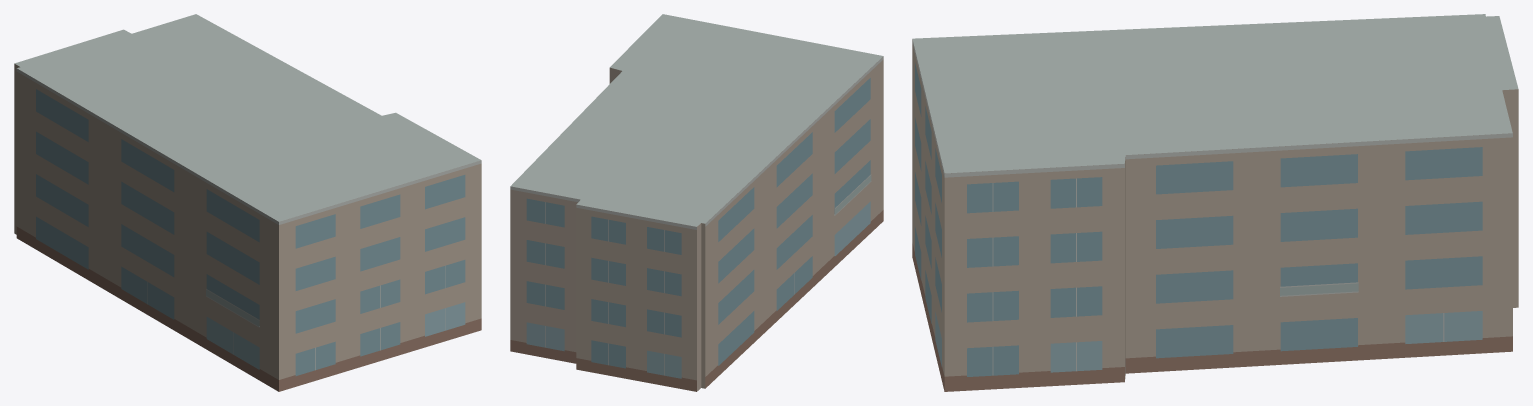
Rendered from survey-upis-32638698.glb.
3 renders of one model, left to right at view 1: azimuth 30°, elevation 25°; view 2: azimuth 150°, elevation 25°; view 3: azimuth 270°, elevation 25°, orthographic. The views are drawn at different scales.
Parts seen in each view (by area): view 1: survey-upis-32638698.tmp; view 2: survey-upis-32638698.tmp; view 3: survey-upis-32638698.tmp.
Part boxes in pixels (x1,y1,x2,y2): survey-upis-32638698.tmp: [14, 14, 481, 391]; survey-upis-32638698.tmp: [510, 14, 883, 391]; survey-upis-32638698.tmp: [912, 14, 1518, 391].
Size of the model in its own units: 19.9 by 12.7 by 31.95.
